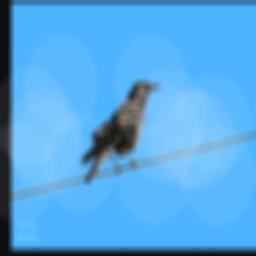Crow: (78, 79, 164, 183)
